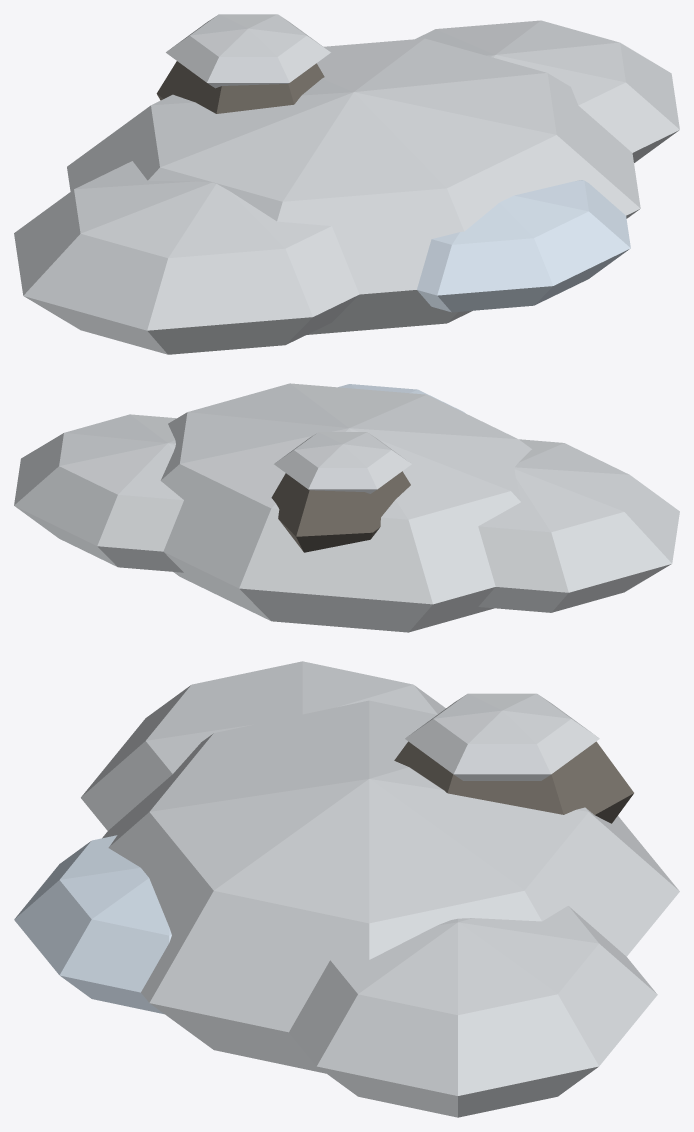
Rendered from cover_snow_drift.glb.
The picture shows the model from 3 angles, top to bottom: view 1: azimuth 30°, elevation 25°; view 2: azimuth 150°, elevation 25°; view 3: azimuth 270°, elevation 25°; orthographic projection. The views are drawn at different scales.
Parts seen in each view (by area): view 1: nature_winter_drift; view 2: nature_winter_drift; view 3: nature_winter_drift.
Part boxes in pixels (bbox=[...]): nature_winter_drift: bbox=[14, 14, 679, 354]; nature_winter_drift: bbox=[14, 383, 679, 632]; nature_winter_drift: bbox=[14, 661, 679, 1117].
Size of the model in its own units: 4.38 by 1.32 by 3.
